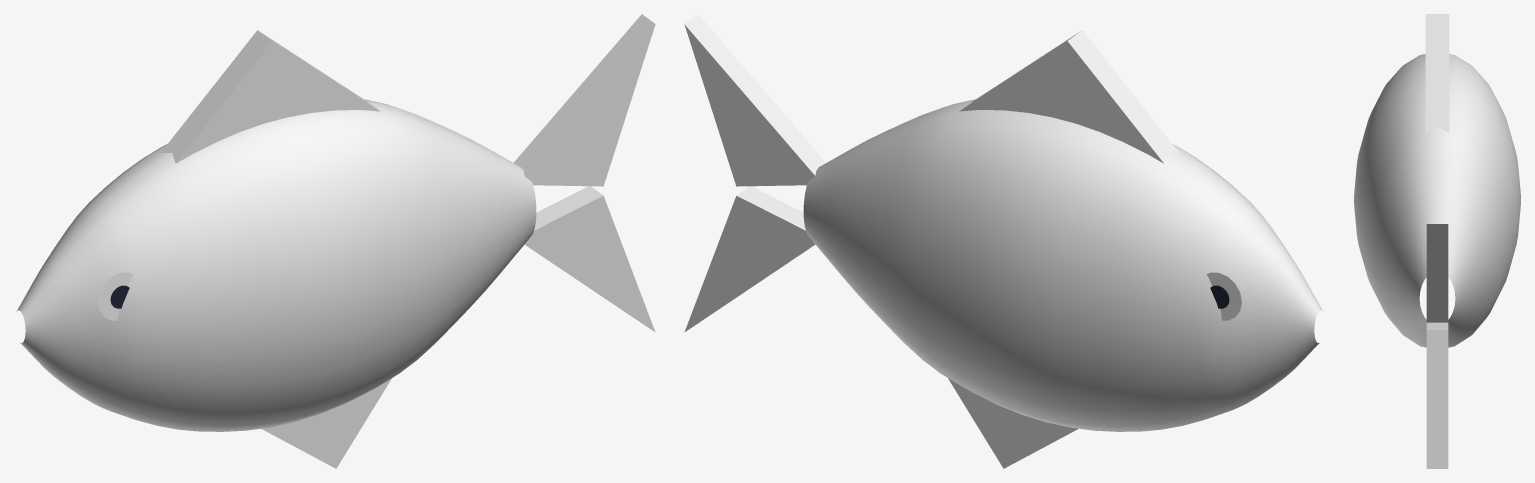
File: coral.glb
The picture shows the model from 3 angles, left to right: view 1: azimuth 30°, elevation 25°; view 2: azimuth 150°, elevation 25°; view 3: azimuth 270°, elevation 25°; orthographic projection. The views are drawn at different scales.
Parts seen in each view (by area): view 1: body, tail-pivot; view 2: body, tail-pivot; view 3: body, tail-pivot.
Part boxes in pixels (x1=…): body: x1=16, y1=30, x2=536, y2=468; tail-pivot: x1=514, y1=14, x2=655, y2=332; body: x1=803, y1=30, x2=1323, y2=468; tail-pivot: x1=684, y1=14, x2=825, y2=332; body: x1=1354, y1=14, x2=1520, y2=347; tail-pivot: x1=1426, y1=224, x2=1448, y2=468.
Bounding box in the file's own units: 2.9 × 1.96 × 0.84.
3 materials, 1 textured.
